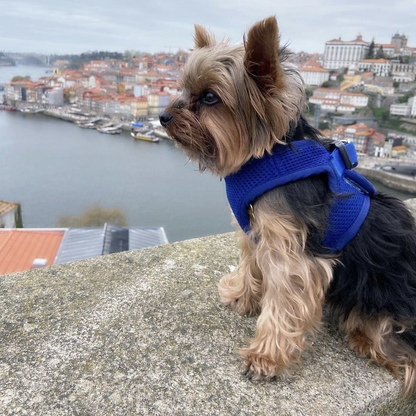yorkshire: (159, 14, 413, 382)
